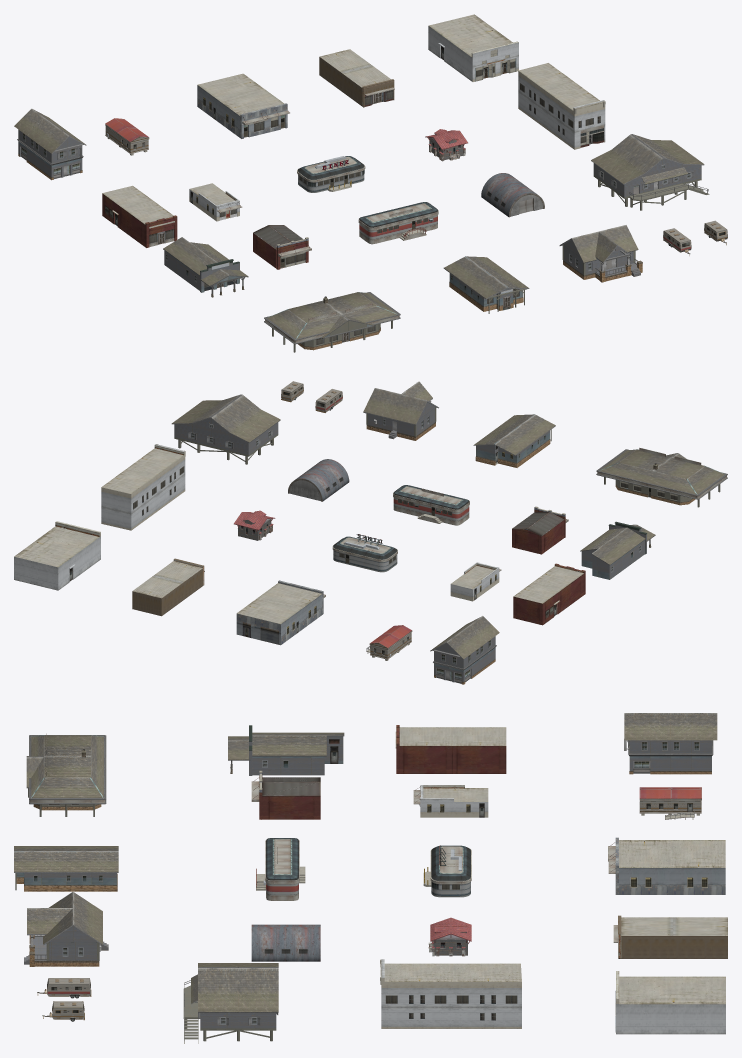
The model's file is rural_buildings_set_-_low_poly_models.glb.
3 renders of one model, top to bottom at view 1: azimuth 30°, elevation 25°; view 2: azimuth 150°, elevation 25°; view 3: azimuth 270°, elevation 25°, orthographic. The views are drawn at different scales.
Parts seen in each view (by area): view 1: Rural_WoodenBuilding_1, Rural_WoodenBuilding_4_Rural_Housetrim_1_0, Rural_StoreSmall_4_Rural_Midcity_Walls_FLR_1_0, Rural_StoreSmall_6_Rural_Facade_FLR_2_0, Rural_StoreSmall_4_Rural_Facade_FLR_2_0, Rural_StoreSmall_8_Rural_Facade_FLR_2_0, Rural_WoodenBuilding_2_Rural_Housetrim_1_0, Rural_WoodenBuilding_3_Rural_Housetrim_1_0, Rural_WoodenBuilding_5_Rural_Housetrim_1_0, Rural_Diner_1_Rural_Facade_FLR_2_0, Rural_StoreSmall_8_Rural_Midcity_Walls_FLR_1_0, Rural_StoreSmall_2_Material #0_0 (+19 smaller); view 2: Rural_WoodenBuilding_1, Rural_WoodenBuilding_4_Rural_Housetrim_1_0, Rural_StoreSmall_4_Rural_Midcity_Walls_FLR_1_0, Rural_WoodenBuilding_2_Rural_Housetrim_1_0, Rural_WoodenBuilding_3_Rural_Housetrim_1_0, Rural_StoreSmall_8_Rural_Facade_FLR_2_0, Rural_WoodenBuilding_5_Rural_Housetrim_1_0, Rural_StoreSmall_8_Rural_Midcity_Walls_FLR_1_0, Rural_StoreSmall_6_Rural_Midcity_Facade_FLR_2_0, Rural_StoreSmall_6_Rural_Facade_FLR_2_0, Rural_StoreSmall_4_Rural_Facade_FLR_2_0, Rural_StoreSmall_1_Rural_Brownstone_Facade_Flr_6_0 (+19 smaller); view 3: Rural_WoodenBuilding_1, Rural_StoreSmall_4_Rural_Midcity_Walls_FLR_1_0, Rural_WoodenBuilding_4_Rural_Housetrim_1_0, Rural_WoodenBuilding_5_Rural_Housetrim_1_0, Rural_WoodenBuilding_3_Rural_Housetrim_1_0, Rural_StoreSmall_6_Rural_Facade_FLR_2_0, Rural_StoreSmall_4_Rural_Facade_FLR_2_0, Rural_StoreSmall_8_Rural_Midcity_Walls_FLR_1_0, Rural_WoodenBuilding_2_Rural_Housetrim_1_0, Rural_StoreSmall_8_Rural_Facade_FLR_2_0, Rural_StoreSmall_5_Rural_Brownstone_Facade_Flr_6_0, Rural_StoreSmall_6_Rural_Midcity_Facade_FLR_2_0 (+18 smaller).
Boxes of the visible parts, x1,y1,x2,y2 form: Rural_WoodenBuilding_1: [591, 134, 709, 210]; Rural_WoodenBuilding_4_Rural_Housetrim_1_0: [264, 292, 400, 350]; Rural_StoreSmall_4_Rural_Midcity_Walls_FLR_1_0: [518, 71, 605, 149]; Rural_StoreSmall_6_Rural_Facade_FLR_2_0: [197, 73, 289, 137]; Rural_StoreSmall_4_Rural_Facade_FLR_2_0: [518, 63, 605, 147]; Rural_StoreSmall_8_Rural_Facade_FLR_2_0: [429, 14, 518, 81]; Rural_WoodenBuilding_2_Rural_Housetrim_1_0: [559, 225, 642, 282]; Rural_WoodenBuilding_3_Rural_Housetrim_1_0: [443, 256, 529, 311]; Rural_WoodenBuilding_5_Rural_Housetrim_1_0: [14, 108, 86, 180]; Rural_Diner_1_Rural_Facade_FLR_2_0: [358, 202, 438, 244]; Rural_StoreSmall_8_Rural_Midcity_Walls_FLR_1_0: [428, 26, 518, 81]; Rural_StoreSmall_2_Material #0_0: [163, 237, 248, 297]; Rural_WoodenBuilding_1: [171, 394, 280, 464]; Rural_WoodenBuilding_4_Rural_Housetrim_1_0: [596, 449, 727, 505]; Rural_StoreSmall_4_Rural_Midcity_Walls_FLR_1_0: [101, 444, 185, 530]; Rural_WoodenBuilding_2_Rural_Housetrim_1_0: [363, 381, 438, 440]; Rural_WoodenBuilding_3_Rural_Housetrim_1_0: [473, 414, 555, 467]; Rural_StoreSmall_8_Rural_Facade_FLR_2_0: [14, 521, 100, 581]; Rural_WoodenBuilding_5_Rural_Housetrim_1_0: [430, 616, 499, 684]; Rural_StoreSmall_8_Rural_Midcity_Walls_FLR_1_0: [14, 532, 100, 590]; Rural_StoreSmall_6_Rural_Midcity_Facade_FLR_2_0: [236, 580, 323, 645]; Rural_StoreSmall_6_Rural_Facade_FLR_2_0: [237, 583, 325, 634]; Rural_StoreSmall_4_Rural_Facade_FLR_2_0: [101, 444, 185, 515]; Rural_StoreSmall_1_Rural_Brownstone_Facade_Flr_6_0: [512, 507, 565, 554]; Rural_WoodenBuilding_1: [183, 963, 278, 1043]; Rural_StoreSmall_4_Rural_Midcity_Walls_FLR_1_0: [381, 959, 521, 1028]; Rural_WoodenBuilding_4_Rural_Housetrim_1_0: [26, 735, 106, 810]; Rural_WoodenBuilding_5_Rural_Housetrim_1_0: [624, 713, 717, 774]; Rural_WoodenBuilding_3_Rural_Housetrim_1_0: [14, 846, 118, 891]; Rural_StoreSmall_6_Rural_Facade_FLR_2_0: [608, 840, 725, 887]; Rural_StoreSmall_4_Rural_Facade_FLR_2_0: [380, 959, 521, 1020]; Rural_StoreSmall_8_Rural_Midcity_Walls_FLR_1_0: [616, 999, 725, 1034]; Rural_WoodenBuilding_2_Rural_Housetrim_1_0: [27, 892, 102, 966]; Rural_StoreSmall_8_Rural_Facade_FLR_2_0: [615, 971, 725, 1032]; Rural_StoreSmall_5_Rural_Brownstone_Facade_Flr_6_0: [396, 725, 506, 773]; Rural_StoreSmall_6_Rural_Midcity_Facade_FLR_2_0: [615, 837, 725, 894].
Size of the model in its own units: 126 by 10.73 by 130.
10 materials, 10 textured.
